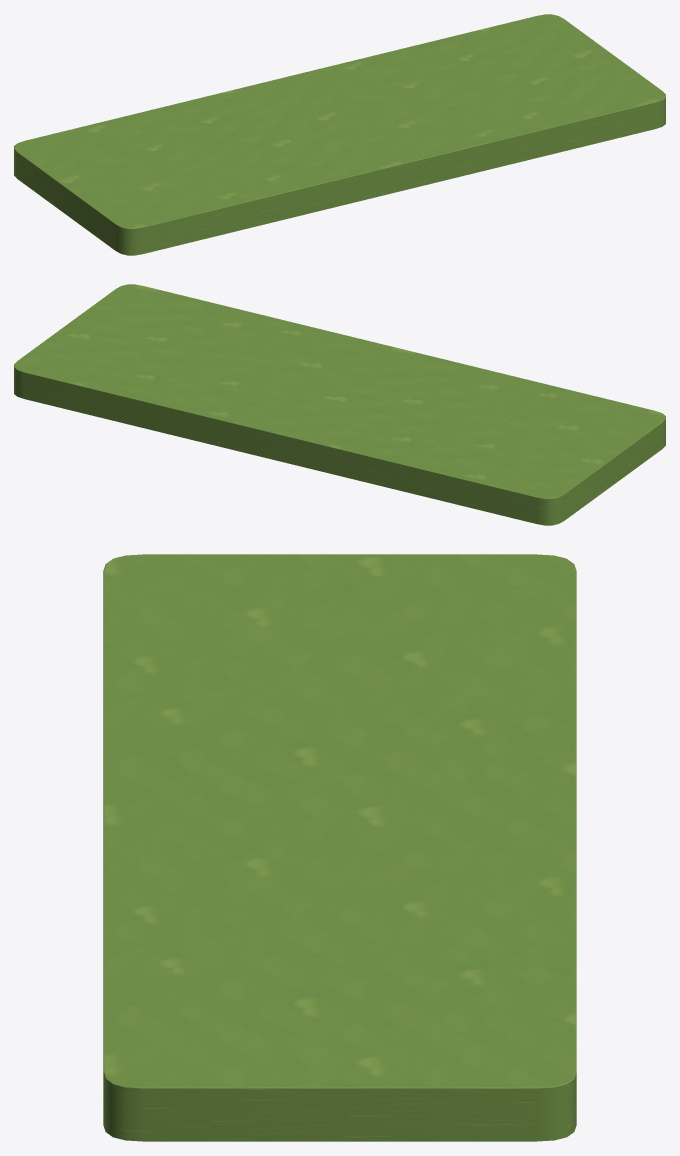
The model's file is thin-long.glb.
3 renders of one model, top to bottom at view 1: azimuth 30°, elevation 25°; view 2: azimuth 150°, elevation 25°; view 3: azimuth 270°, elevation 25°, orthographic. The views are drawn at different scales.
Visible parts, largest first — view 1: geometry_0; view 2: geometry_0; view 3: geometry_0.
Part boxes in pixels (x1=…): geometry_0: x1=14, y1=14, x2=665, y2=255; geometry_0: x1=14, y1=284, x2=665, y2=525; geometry_0: x1=103, y1=554, x2=576, y2=1141.
Size of the model in its own units: 128 by 6 by 48.
Materials: 1 (1 with a texture image).
